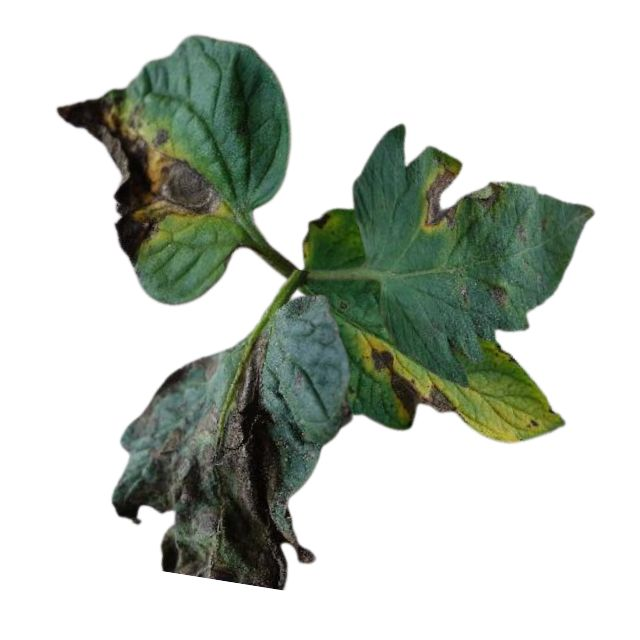Early_blight: (111, 332, 315, 591), (56, 86, 224, 267), (369, 348, 459, 427), (422, 165, 504, 234), (488, 278, 511, 304), (308, 214, 335, 228), (340, 396, 352, 425)
